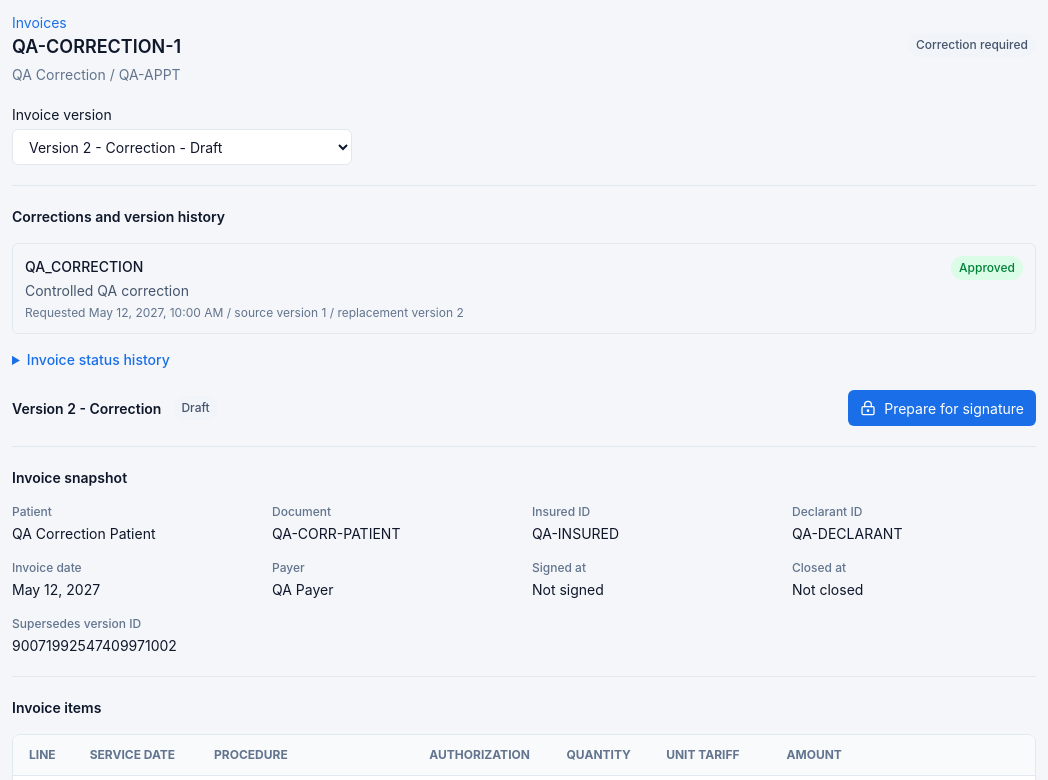
F07 correction workflow UI › shows version relationships and status history
Expected: the text "replacement version 2" is shown, [326,305,464,320]
Click the heading "Invoice status history": {"x": 98, "y": 360} [27,351,170,368]
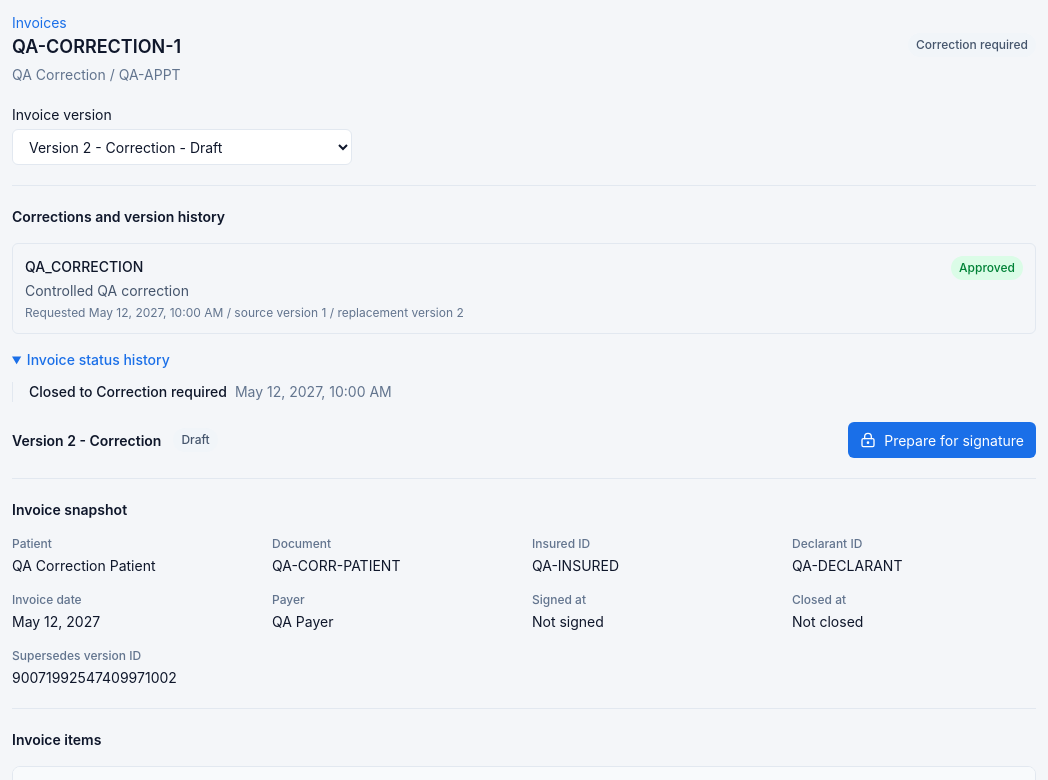
Now the text "Closed to Correction required" is shown, box [29,383,227,400]
